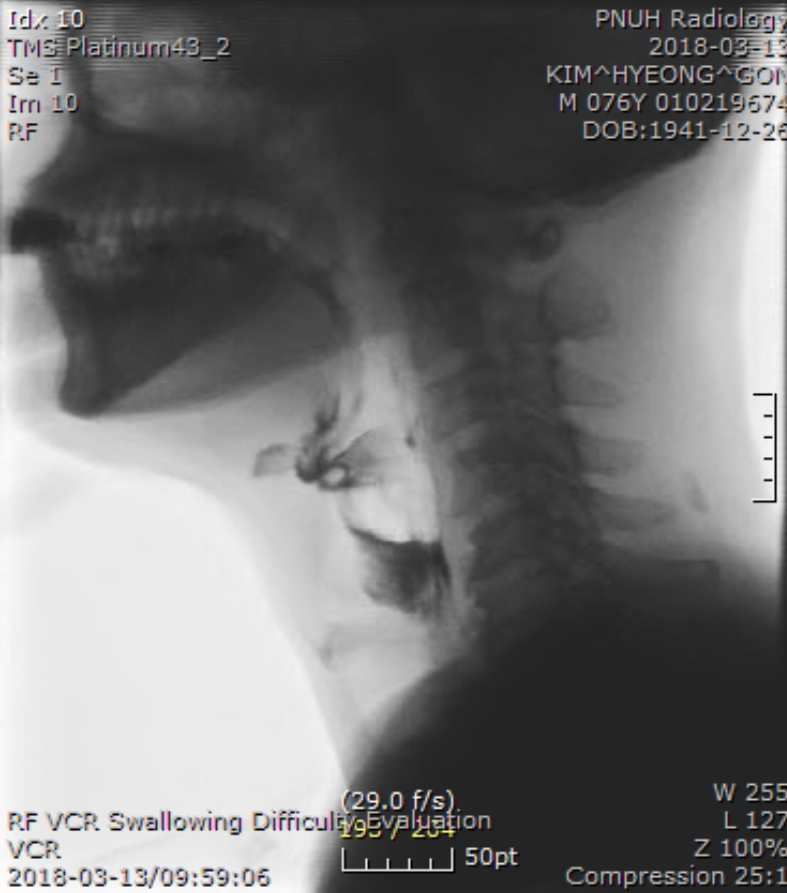dros: (334, 520, 446, 630)
food: (259, 368, 468, 634)
uros: (270, 419, 394, 516)
